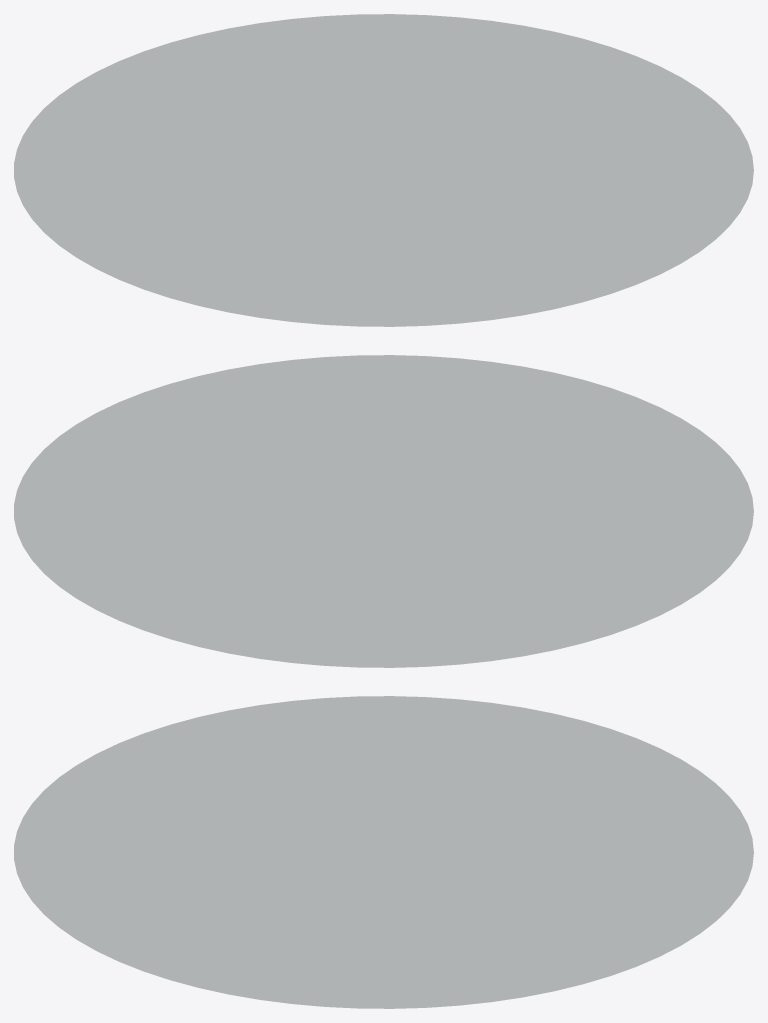
The model's file is WallMirror.fbx.
3 renders of one model, top to bottom at view 1: azimuth 30°, elevation 25°; view 2: azimuth 150°, elevation 25°; view 3: azimuth 270°, elevation 25°, orthographic.
Visible parts, largest first — view 1: WallMirror; view 2: WallMirror; view 3: WallMirror.
Part boxes in pixels (<box>): WallMirror: <box>14,14,753,326</box>; WallMirror: <box>14,355,753,667</box>; WallMirror: <box>14,696,753,1008</box>.
Bounding box in the file's own units: 91.57 × 1.69e-05 × 91.55.
